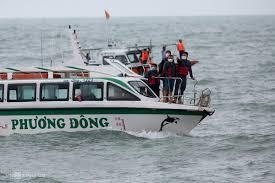Ship: (1, 41, 215, 137)
